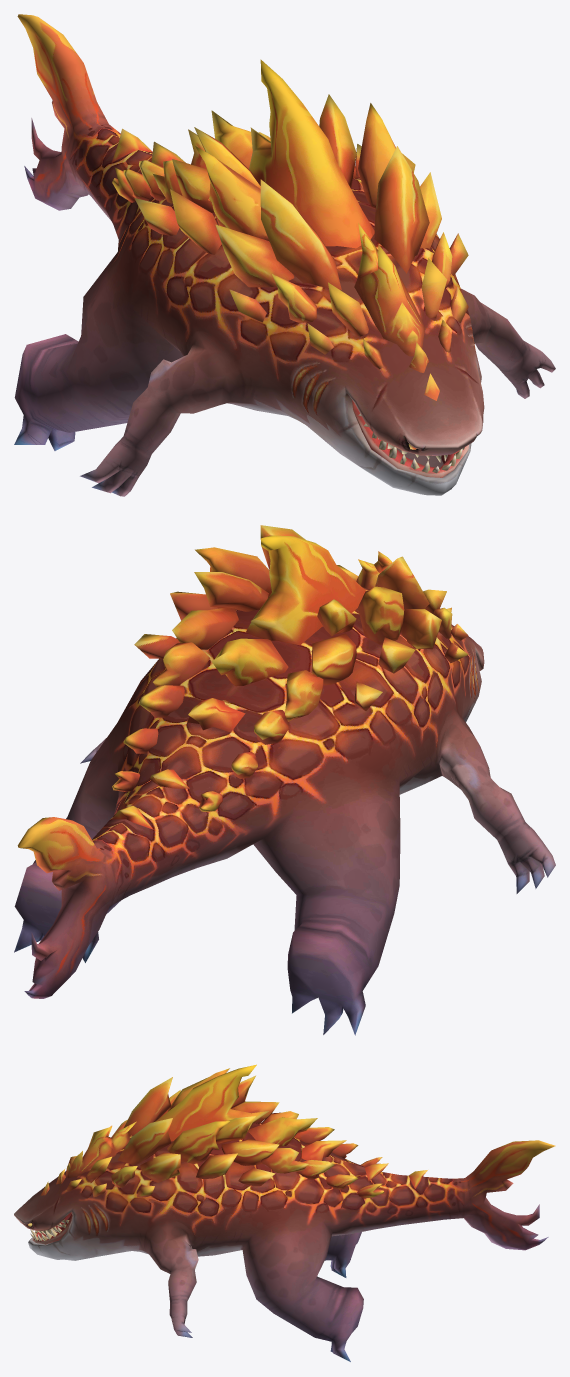
The model's file is magmajira_geo.fbx.
The picture shows the model from 3 angles, top to bottom: view 1: azimuth 30°, elevation 25°; view 2: azimuth 150°, elevation 25°; view 3: azimuth 270°, elevation 25°; orthographic projection. The views are drawn at different scales.
Parts seen in each view (by area): view 1: magmajira_geo; view 2: magmajira_geo; view 3: magmajira_geo.
Boxes of the visible parts, <box> form: magmajira_geo: <box>14,14,555,496</box>; magmajira_geo: <box>14,525,555,1035</box>; magmajira_geo: <box>14,1064,555,1361</box>.
Bounding box in the file's own units: 2430 × 2044 × 3953.
Materials: 1 (1 with a texture image).
